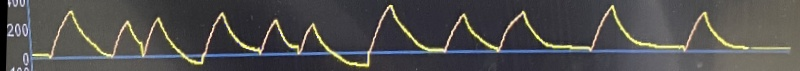normal_volume: (31, 0, 769, 66)
